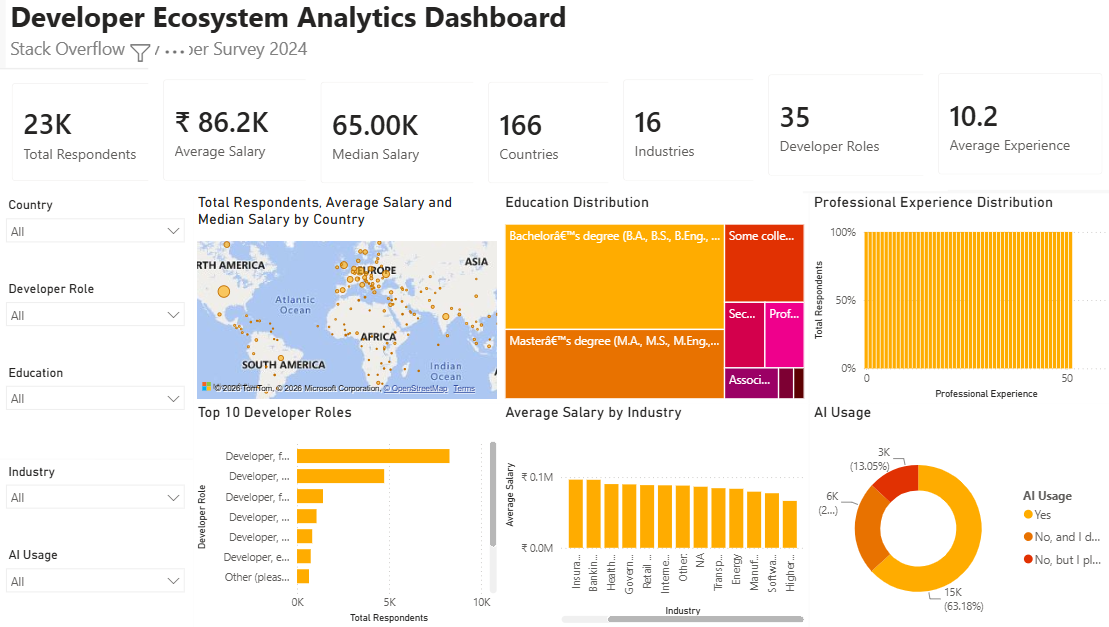

The dashboard page shown, as its layout file describes it:
{"tool":"powerbi","page":{"name":"Executive Overview","canvas":[1280,720],"ordinal":0},"visuals":[{"type":"textbox","title":"Developer Ecosystem Analytics Dashboard","box":[10.1,0,1269.6,81.2],"z":0},{"type":"cardVisual","title":"Respondents","fields":{"Data":["Developer Survey.Total Respondents"]},"box":[0,81.2,221.7,146.4],"z":1000},{"type":"cardVisual","title":"Average Salary","fields":{"Data":["Developer Survey.Average Salary"]},"box":[172.5,76.8,201.4,150.7],"z":2000},{"type":"cardVisual","fields":{"Data":["Developer Survey.Median Salary"]},"box":[352.2,79.7,222,150],"z":3000},{"type":"cardVisual","fields":{"Data":["Developer Survey.Countries"]},"box":[544.9,79.7,198.6,150.7],"z":4000},{"type":"cardVisual","fields":{"Data":["Developer Survey.Industries"]},"box":[698.6,76.8,222,150],"z":5000},{"type":"cardVisual","fields":{"Data":["Developer Survey.Developer Roles"]},"box":[863.8,71,222,150],"z":6000},{"type":"cardVisual","fields":{"Data":["Developer Survey.Average Experience"]},"box":[1058,69.6,222,150],"z":7000},{"type":"slicer","fields":{"Values":["Developer Survey.Country"]},"box":[0,224,224,96],"z":8000},{"type":"slicer","fields":{"Values":["Developer Survey.Industry"]},"box":[0,528,224,112],"z":9000},{"type":"slicer","fields":{"Values":["Developer Survey.Developer Role"]},"box":[0,320,224,96],"z":10000},{"type":"slicer","fields":{"Values":["Developer Survey.Education"]},"box":[0,416,224,112],"z":11000},{"type":"slicer","fields":{"Values":["Developer Survey.AI Usage"]},"box":[0,624,224,96],"z":12000},{"type":"clusteredBarChart","title":"Top 10 Developer Roles","fields":{"Category":["Developer Survey.Developer Role"],"Y":["Developer Survey.Total Respondents"]},"box":[224,464,352,256],"z":13000},{"type":"map","fields":{"Category":["Developer Survey.Country"],"Size":["Developer Survey.Total Respondents"]},"box":[224,224,352,240],"z":14000},{"type":"clusteredColumnChart","fields":{"Category":["Developer Survey.Industry"],"Y":["Developer Survey.Average Salary"]},"box":[576,464,352,256],"z":15000},{"type":"donutChart","title":"AI Usage","fields":{"Category":["Developer Survey.AI Usage"],"Y":["Developer Survey.Total Respondents"]},"box":[928,464,352,256],"z":16000},{"type":"treemap","title":"Education Distribution","fields":{"Values":["Developer Survey.Total Respondents"],"Group":["Developer Survey.Education"]},"box":[576,224,352,240],"z":17000},{"type":"hundredPercentStackedColumnChart","title":"Professional Experience Distribution","fields":{"Category":["Developer Survey.Professional Experience"],"Y":["Developer Survey.Total Respondents"]},"box":[928,224,352,240],"z":18000}]}

Visuals, with their boxes in screenshot pixels (x1, y1, x2, y2), scaled from the page's 1280x720 canvas onto the 1109x627 screenshot:
"Developer Ecosystem Analytics Dashboard" textbox: {"left": 9, "top": 0, "right": 1108, "bottom": 71}
"Respondents" cardVisual: {"left": 0, "top": 71, "right": 192, "bottom": 198}
"Average Salary" cardVisual: {"left": 149, "top": 67, "right": 324, "bottom": 198}
cardVisual - Developer Survey.Median Salary: {"left": 305, "top": 69, "right": 497, "bottom": 200}
cardVisual - Developer Survey.Countries: {"left": 472, "top": 69, "right": 644, "bottom": 201}
cardVisual - Developer Survey.Industries: {"left": 605, "top": 67, "right": 798, "bottom": 198}
cardVisual - Developer Survey.Developer Roles: {"left": 748, "top": 62, "right": 941, "bottom": 192}
cardVisual - Developer Survey.Average Experience: {"left": 917, "top": 61, "right": 1108, "bottom": 191}
slicer - Developer Survey.Country: {"left": 0, "top": 195, "right": 194, "bottom": 279}
slicer - Developer Survey.Industry: {"left": 0, "top": 460, "right": 194, "bottom": 557}
slicer - Developer Survey.Developer Role: {"left": 0, "top": 279, "right": 194, "bottom": 362}
slicer - Developer Survey.Education: {"left": 0, "top": 362, "right": 194, "bottom": 460}
slicer - Developer Survey.AI Usage: {"left": 0, "top": 543, "right": 194, "bottom": 626}
"Top 10 Developer Roles" clusteredBarChart: {"left": 194, "top": 404, "right": 499, "bottom": 626}
map - Developer Survey.Country x Developer Survey.Total Respondents: {"left": 194, "top": 195, "right": 499, "bottom": 404}
clusteredColumnChart - Developer Survey.Industry x Developer Survey.Average Salary: {"left": 499, "top": 404, "right": 804, "bottom": 626}
"AI Usage" donutChart: {"left": 804, "top": 404, "right": 1108, "bottom": 626}
"Education Distribution" treemap: {"left": 499, "top": 195, "right": 804, "bottom": 404}
"Professional Experience Distribution" hundredPercentStackedColumnChart: {"left": 804, "top": 195, "right": 1108, "bottom": 404}
